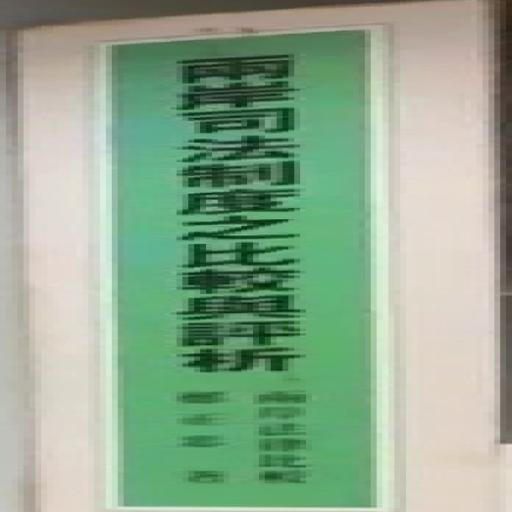book: (1, 1, 507, 512)
